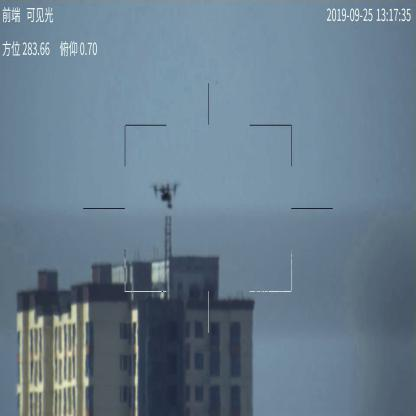uav: (153, 182, 178, 211)
